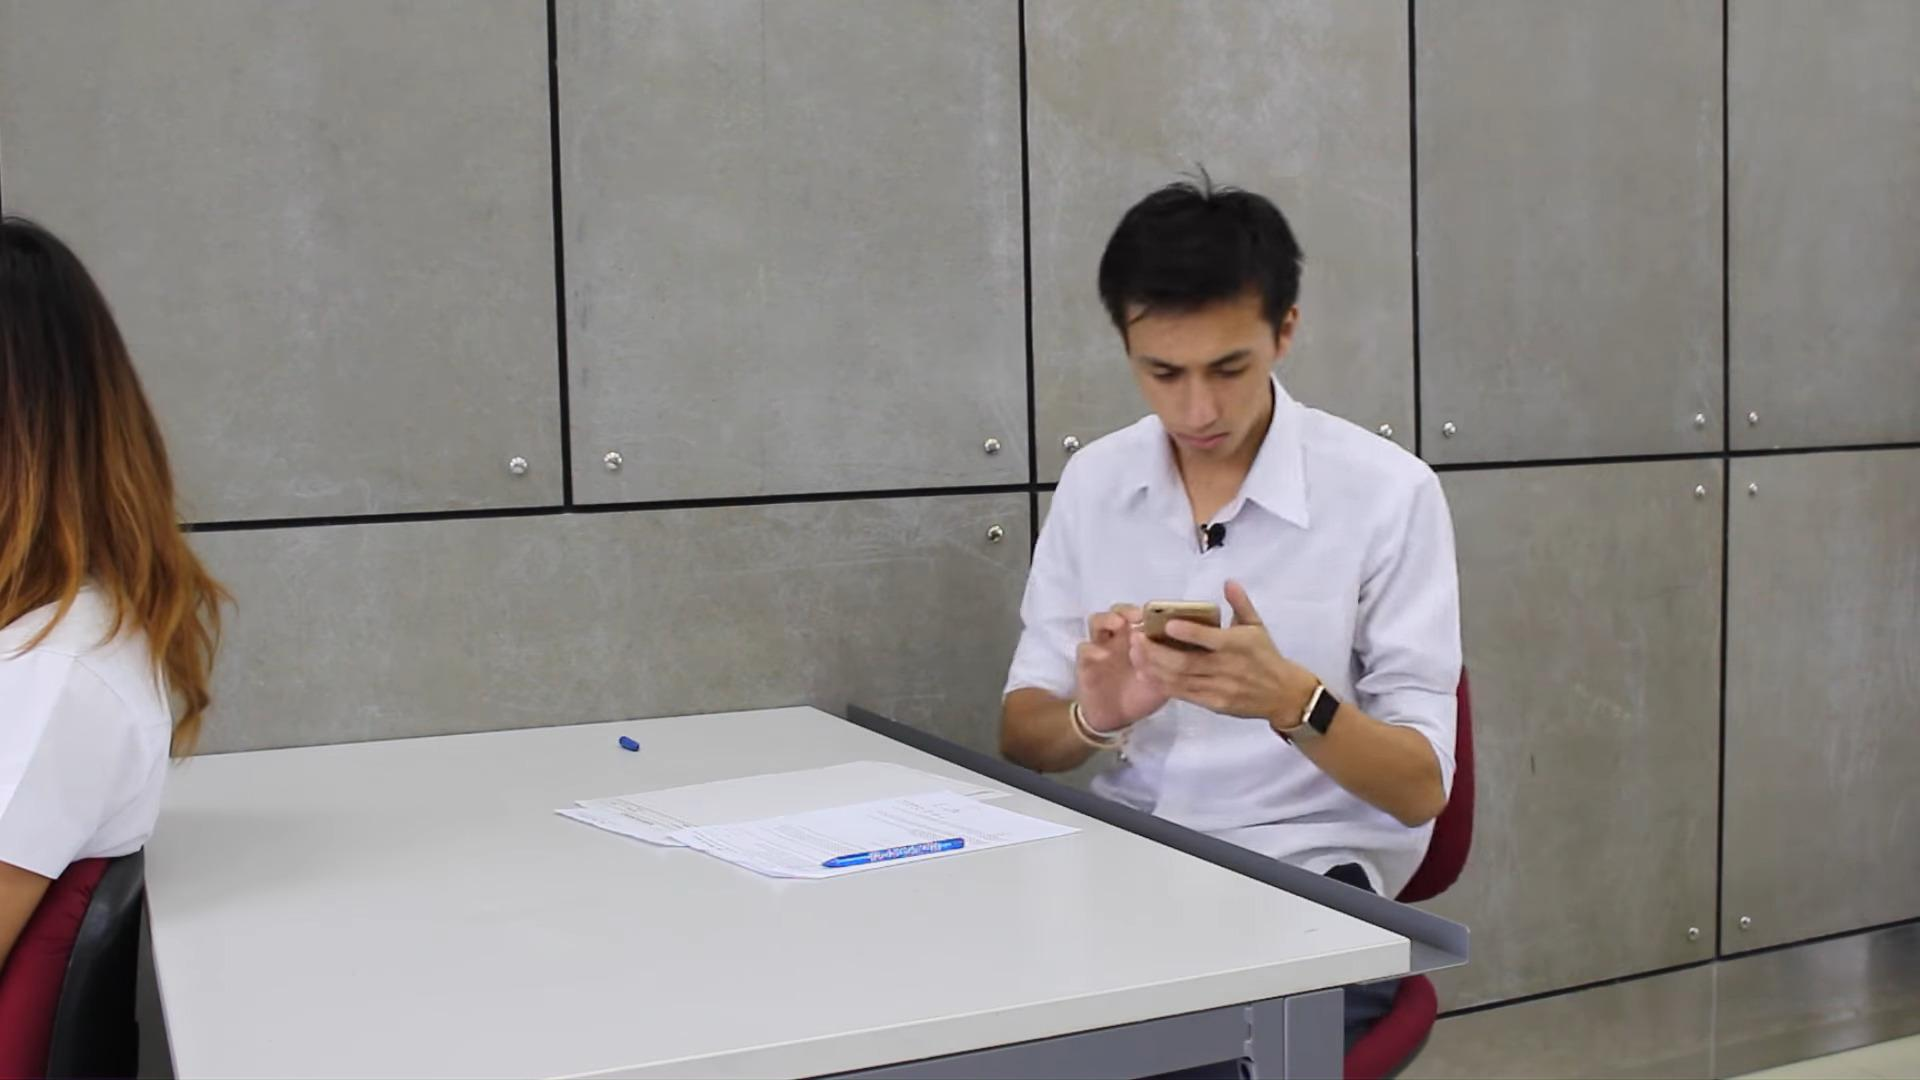cheating: (530, 161, 1506, 910)
